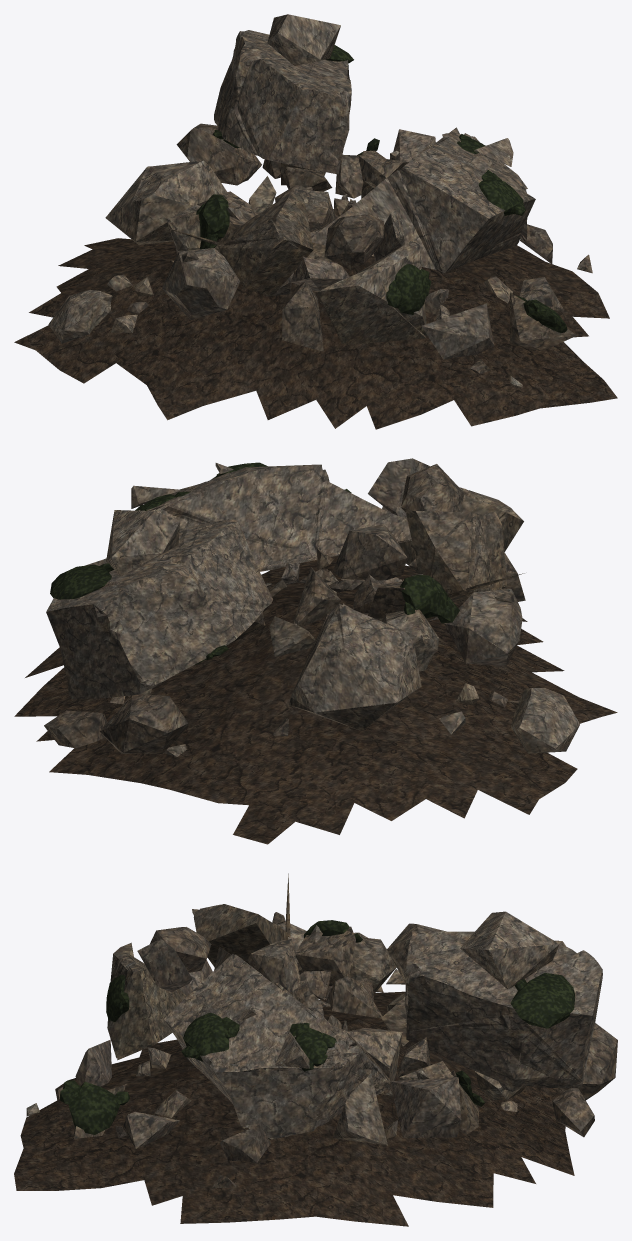
File: SM_Cripta_Entulho.glb
3 views of the same model, one above another, from view 1: azimuth 30°, elevation 25°; view 2: azimuth 150°, elevation 25°; view 3: azimuth 270°, elevation 25° (orthographic). The views are drawn at different scales.
Visible parts, largest first — view 1: SM_Cripta_Entulho; view 2: SM_Cripta_Entulho; view 3: SM_Cripta_Entulho.
Boxes of the visible parts, left/top/right/bottom form: SM_Cripta_Entulho: left=14, top=14, right=617, bottom=429; SM_Cripta_Entulho: left=14, top=458, right=617, bottom=844; SM_Cripta_Entulho: left=14, top=873, right=617, bottom=1226.
Size of the model in its own units: 1.92 by 0.8791 by 2.05.
Materials: 4 (4 with a texture image).
